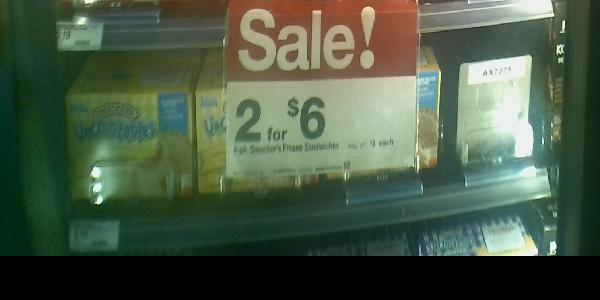icecream: (68, 48, 194, 223), (194, 55, 313, 207), (348, 43, 445, 207)
